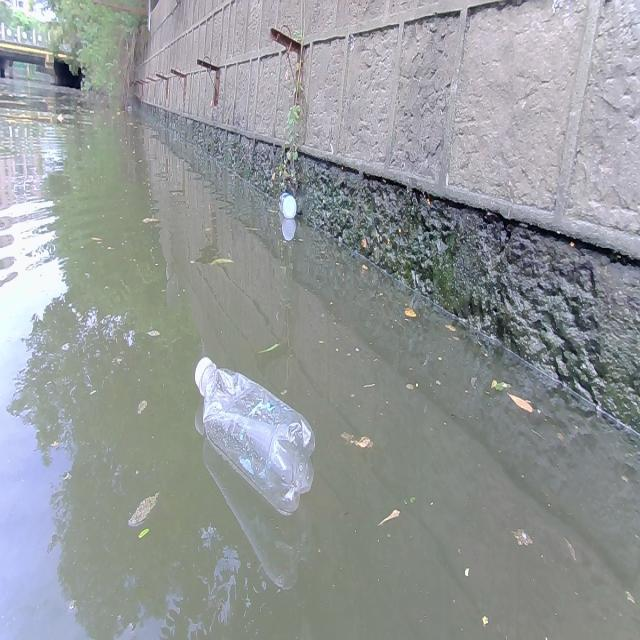bottle: (193, 356, 315, 512), (279, 193, 297, 218)
